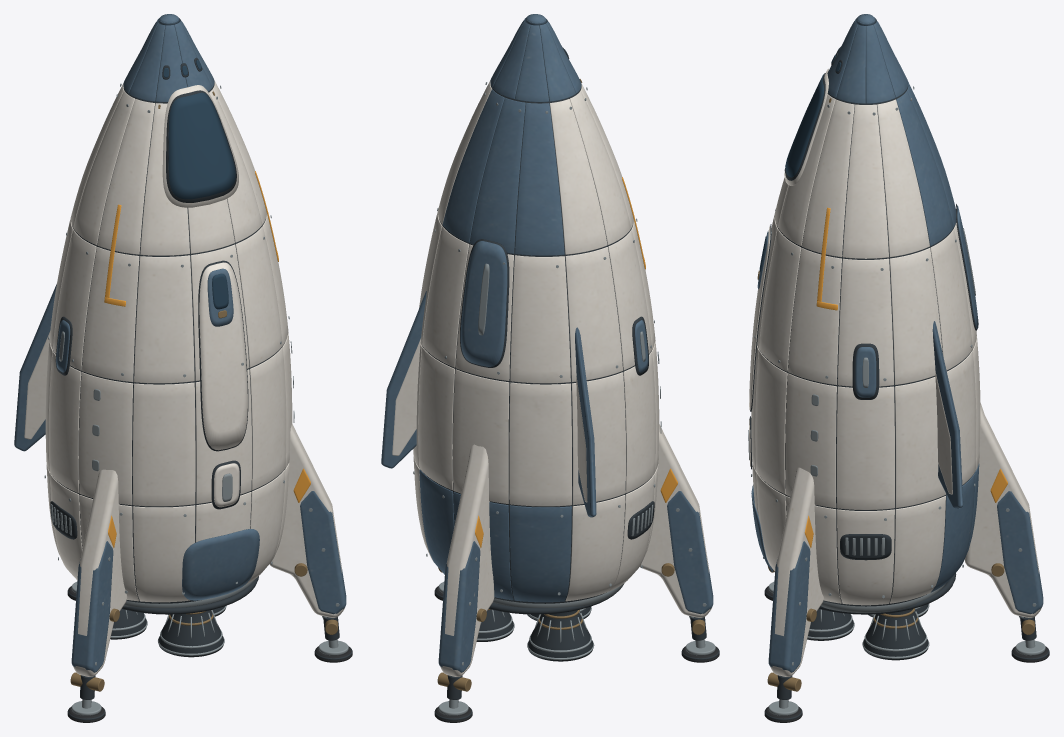
The model's file is SSTO.glb.
3 views of the same model, side by side, from view 1: azimuth 30°, elevation 25°; view 2: azimuth 150°, elevation 25°; view 3: azimuth 270°, elevation 25° (orthographic).
Visible parts, largest first — view 1: SSTO_Hull, SSTO_Details, SSTO_Landing_Port, SSTO_Landing_Starboard, SSTO_Cockpit, SSTO_Control_Fins, SSTO_Engine_01, SSTO_Engine_Deck, SSTO_Engine_02; view 2: SSTO_Hull, SSTO_Landing_Aft, SSTO_Landing_Port, SSTO_Details, SSTO_Control_Fins, SSTO_Engine_02, SSTO_Engine_Deck, SSTO_Engine_03; view 3: SSTO_Hull, SSTO_Landing_Aft, SSTO_Landing_Starboard, SSTO_Details, SSTO_Control_Fins, SSTO_Engine_03, SSTO_Cockpit, SSTO_Engine_Deck, SSTO_Engine_01.
Boxes of the visible parts, x1,y1,x2,y2 form: SSTO_Hull: (45,14,292,603); SSTO_Details: (44,83,294,600); SSTO_Landing_Port: (67,469,127,722); SSTO_Landing_Starboard: (269,424,352,662); SSTO_Cockpit: (158,57,238,207); SSTO_Control_Fins: (14,284,56,451); SSTO_Engine_01: (158,610,224,657); SSTO_Engine_Deck: (122,576,258,614); SSTO_Engine_02: (110,609,147,639); SSTO_Hull: (413,14,659,603); SSTO_Landing_Aft: (434,444,494,722); SSTO_Landing_Port: (639,424,719,662); SSTO_Details: (413,82,661,595); SSTO_Control_Fins: (381,291,596,517); SSTO_Engine_02: (527,609,594,661); SSTO_Engine_Deck: (489,583,624,614); SSTO_Engine_03: (476,609,514,641); SSTO_Hull: (751,14,980,606); SSTO_Landing_Aft: (964,402,1049,662); SSTO_Landing_Starboard: (764,467,823,722); SSTO_Details: (748,86,978,598); SSTO_Control_Fins: (932,321,963,508); SSTO_Engine_03: (862,608,929,660); SSTO_Cockpit: (784,47,842,185); SSTO_Engine_Deck: (819,573,956,614); SSTO_Engine_01: (807,609,854,640).
Bounding box in the file's own units: 11 × 24 × 10.25.
Materials: 9 (9 with a texture image).
